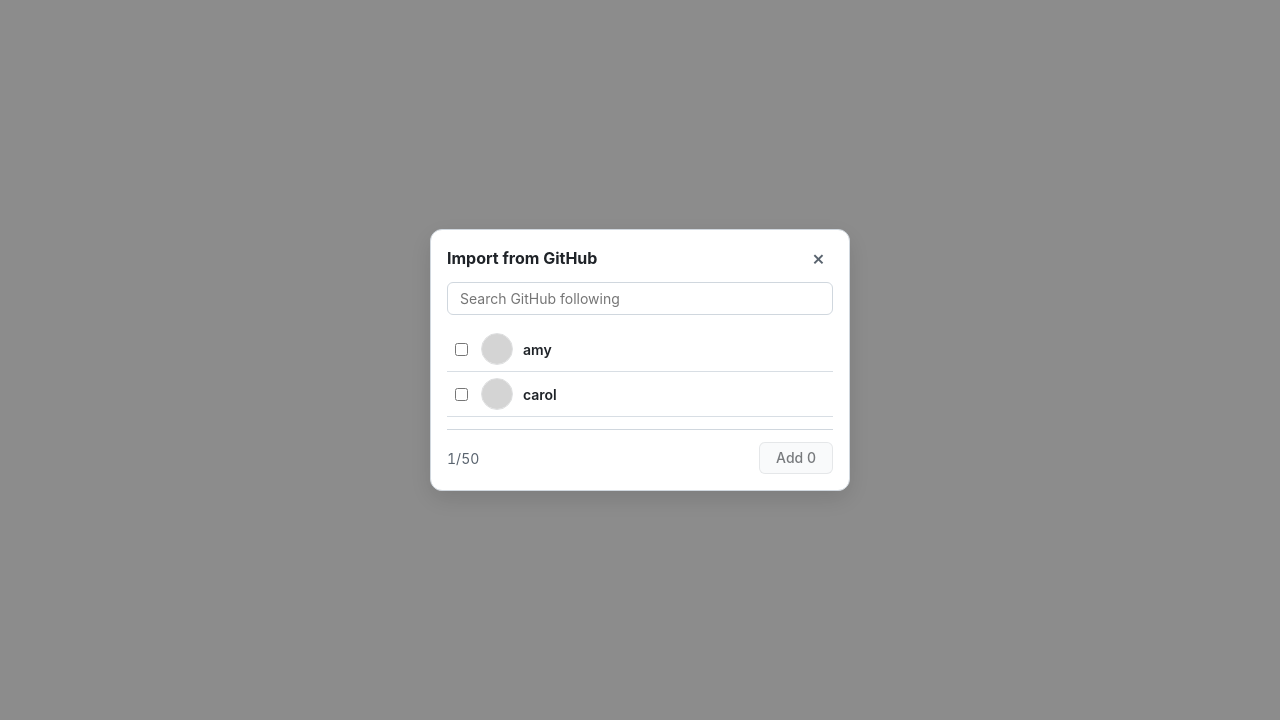
it: ImportFollowingModal › shows the running count out of the cap and updates it as you select
Check: the text "1/50" is shown, box [447,448,479,468]
Step 1. Click the checkbox labelled "amy" → (462, 349), box [455,342,468,356]
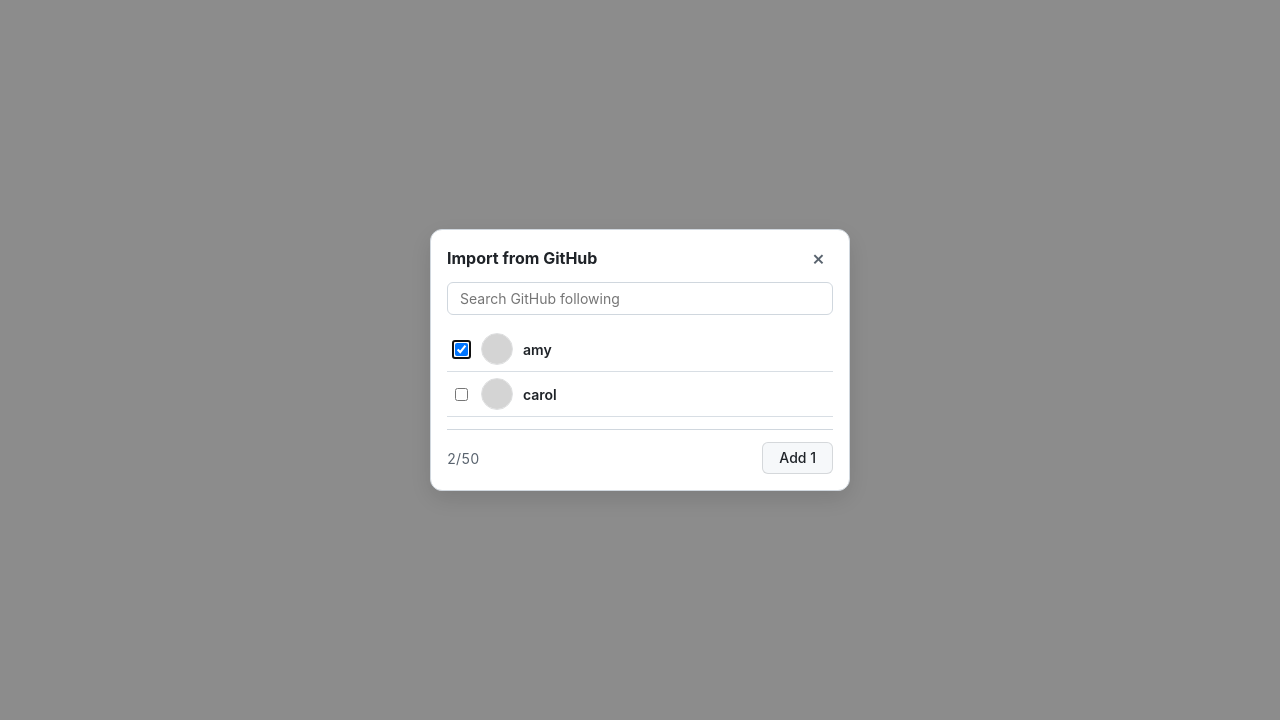
Check: the text "2/50" is shown, box [447,448,479,468]
